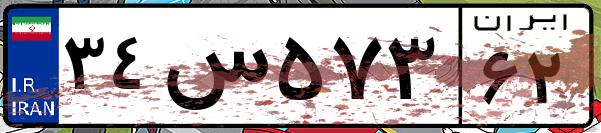2: (525, 38, 570, 115)
3: (385, 28, 445, 110), (57, 26, 110, 100)
4: (110, 28, 158, 98)
5: (270, 28, 330, 110)
6: (475, 38, 525, 113)
7: (330, 28, 385, 110)
س: (158, 20, 270, 120)
